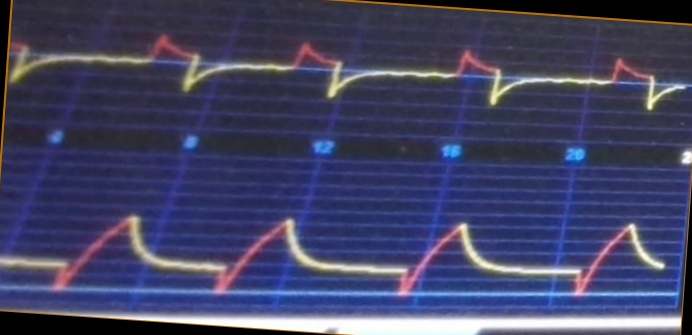Flow: (10, 30, 691, 124)
Leakage Volume: (1, 202, 668, 305)
